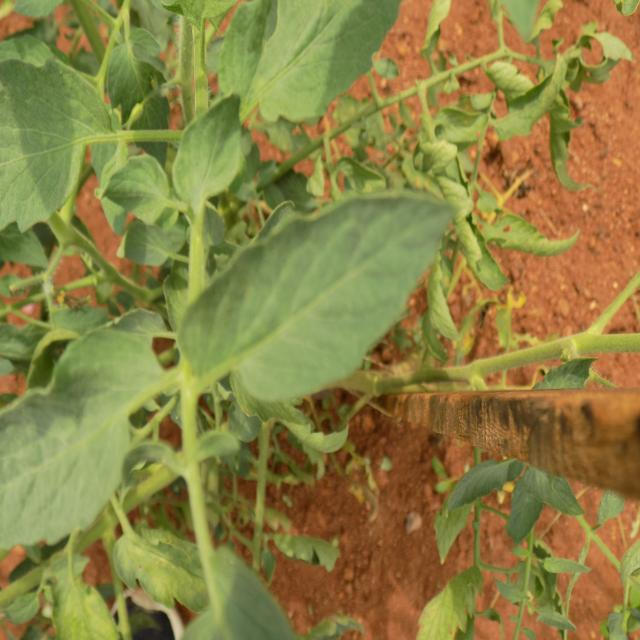tomato_healthy: (174, 189, 458, 401), (169, 71, 249, 201)
